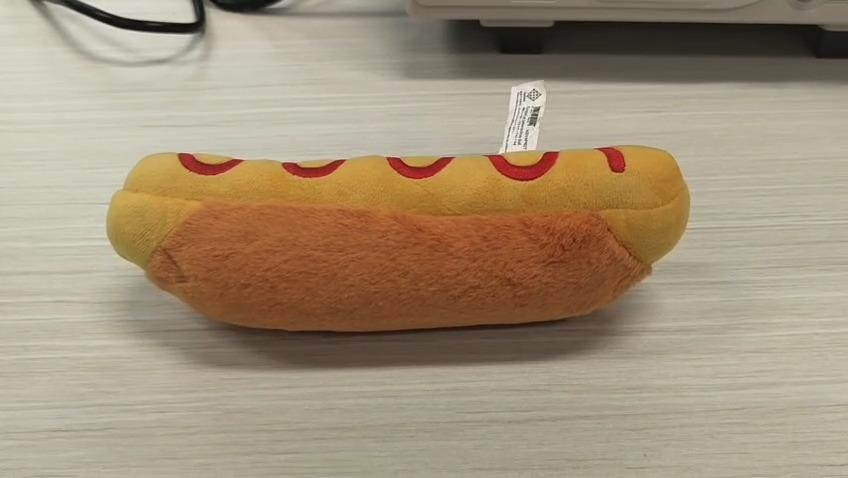hotdog: (105, 149, 691, 334)
